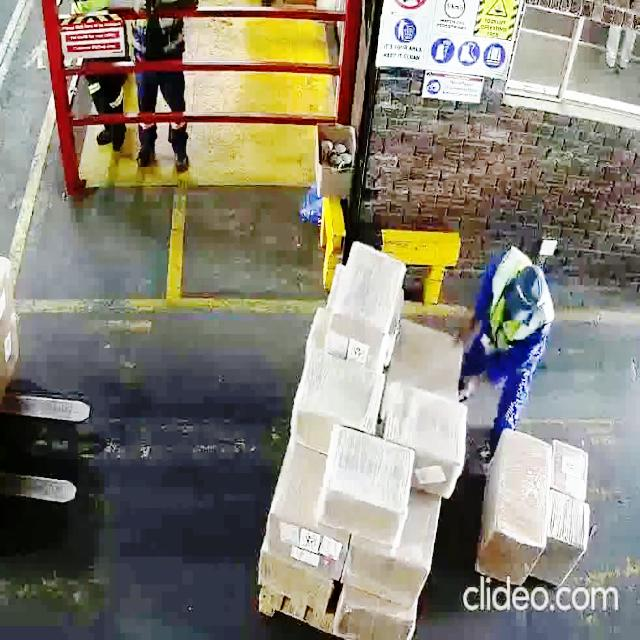Box: (323, 434, 410, 531), (327, 233, 400, 347), (492, 432, 547, 579), (292, 346, 376, 439), (391, 389, 464, 464), (264, 504, 335, 572), (351, 548, 428, 602), (264, 553, 330, 607), (338, 585, 411, 633), (540, 494, 592, 560), (546, 442, 592, 500)
